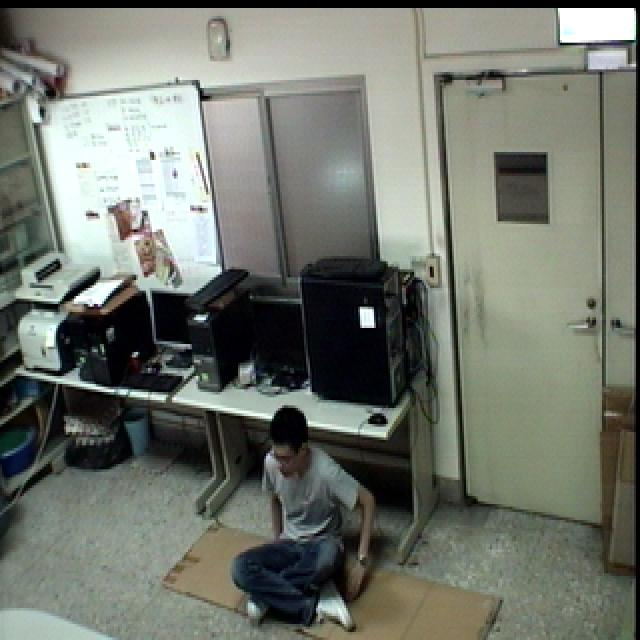sit: (228, 403, 382, 635)
